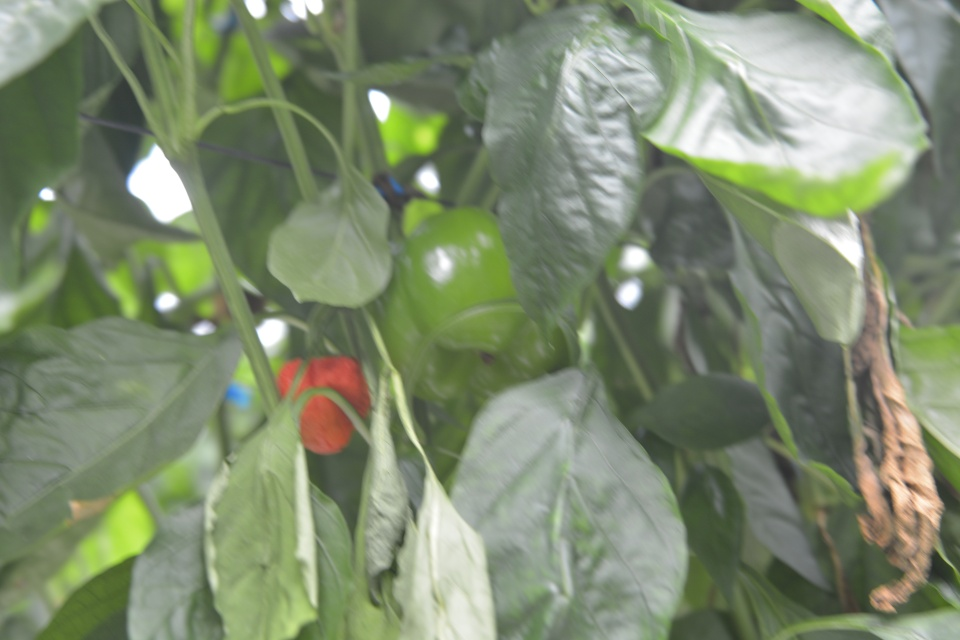fruit: (379, 205, 582, 413), (275, 352, 373, 456)
